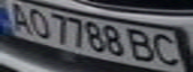7: (45, 12, 72, 44), (63, 16, 87, 48)
8: (81, 19, 106, 54), (103, 24, 127, 57)
A: (0, 1, 36, 34)
B: (124, 28, 160, 64)
C: (148, 31, 187, 69)
O: (21, 7, 54, 38)
